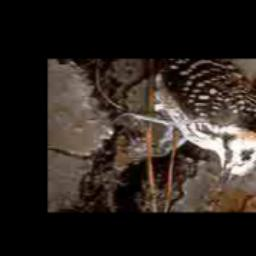Woodpecker: (123, 62, 256, 199)
